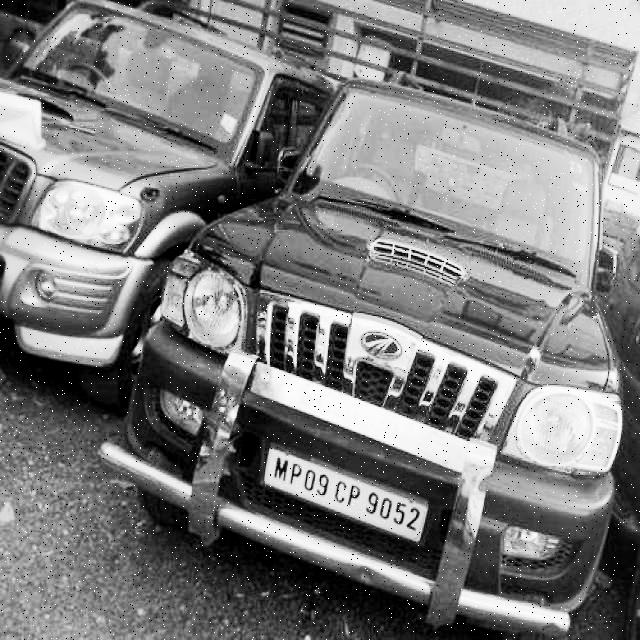Car: (144, 67, 640, 640), (2, 0, 272, 428)
